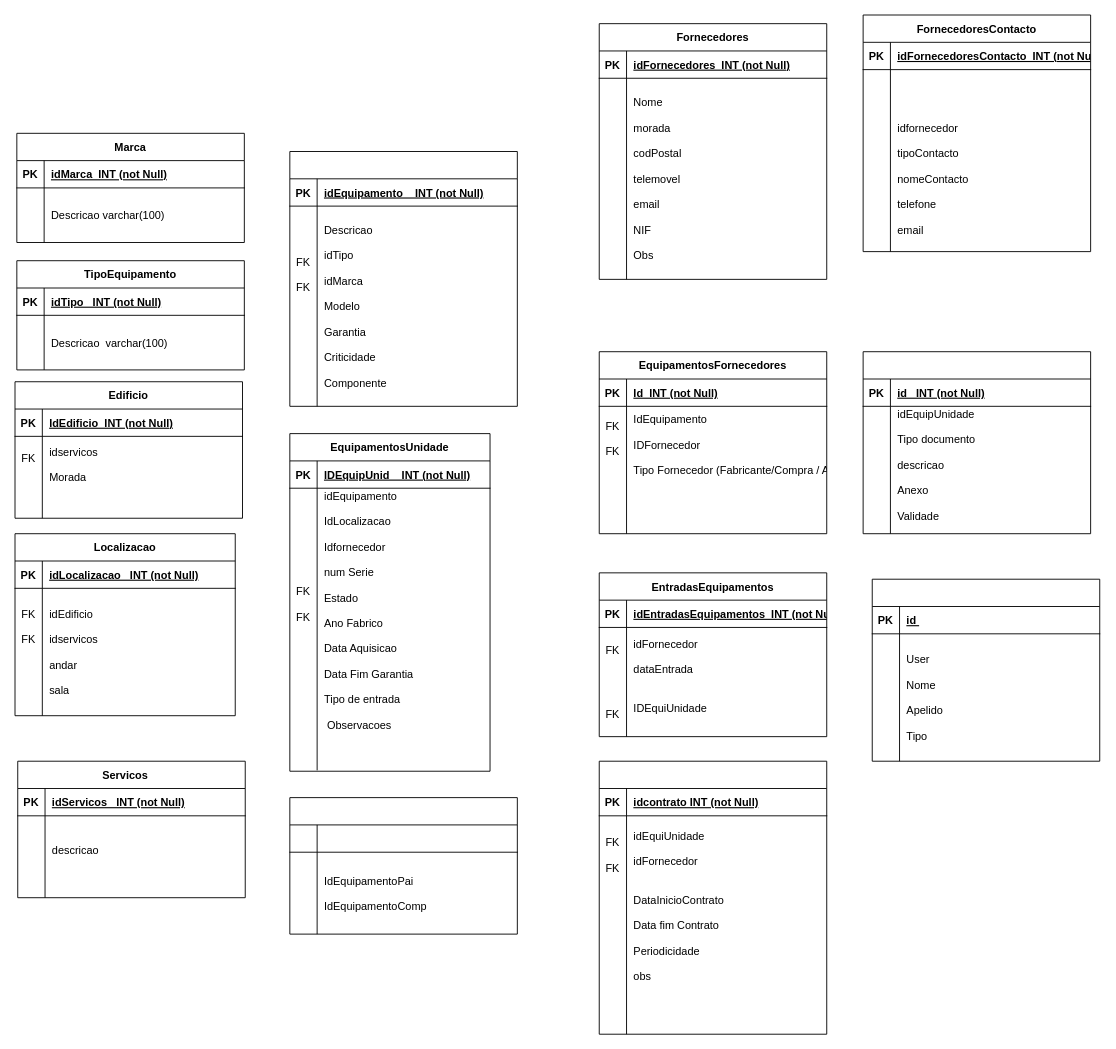
The diagram is 1116 pixels wide and 1049 high, and some of its shapes have lost their labels. The shapes that lost their labels are listed below. From the top down, each one's box as (x1, y1, x2, y2) in pixels, then its label:
(289, 151, 517, 406): Equipamentos
(862, 351, 1091, 534): DocumentacaoTecnica
(871, 578, 1100, 761): Users
(289, 797, 517, 934): EquipamentoAssociad
(598, 760, 827, 1034): ContratosManutencao
